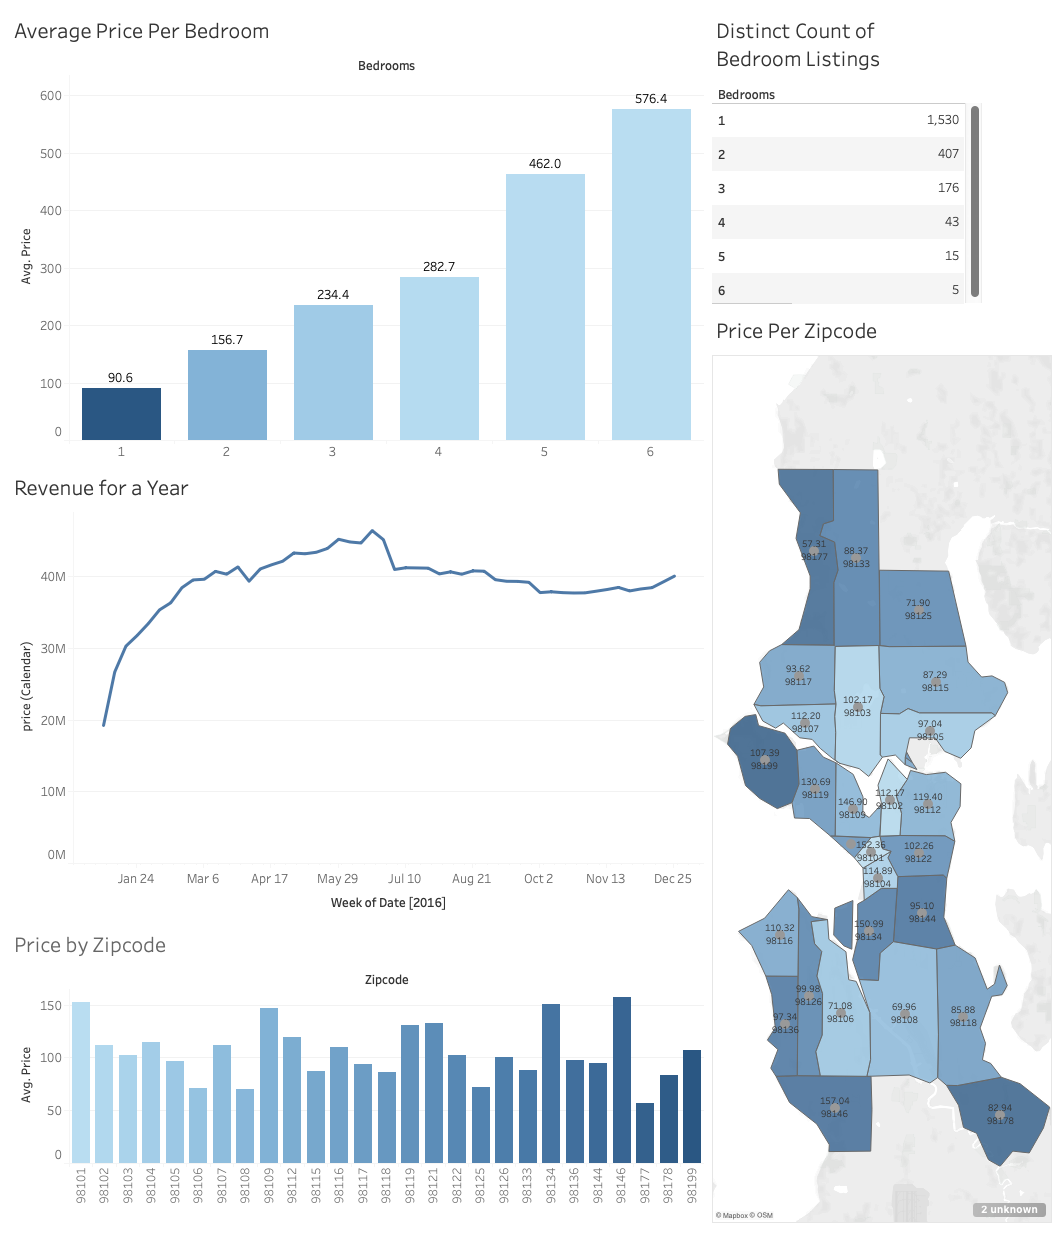

The dashboard page shown, as its layout file describes it:
{"tool":"tableau","page":{"name":"Dashboard 1","canvas":[1000,1000],"units":"permille","ordinal":0},"visuals":[{"type":"worksheet","title":"Sheet 4","mark":"Automatic","rows":["price"],"cols":["bedrooms"],"box":[7.5,6.5,658.6,370.1]},{"type":"worksheet","title":"Sheet 5","mark":"Automatic","rows":["bedrooms"],"box":[666.1,6.5,326.4,242.9]},{"type":"worksheet","title":"Sheet 2","mark":"Automatic","box":[666.1,249.4,326.4,744.1]},{"type":"worksheet","title":"Sheet 3","mark":"Automatic","rows":["price (Calendar)"],"cols":["date"],"box":[7.5,376.6,658.6,370.1]},{"type":"worksheet","title":"Sheet 1","mark":"Automatic","rows":["price"],"cols":["zipcode"],"box":[7.5,746.8,658.6,246.8]}]}

Visuals, with their boxes on the dashboard's canvas, which has no fixed pixel size, in thousandths of its width and height (x1, y1, x2, y2). These are canvas units, not pixel positions in the 1062x1235 screenshot, which may show the page scaled, cropped or inside an application window:
"Sheet 4" worksheet: 8 6 666 377
"Sheet 5" worksheet: 666 6 992 249
"Sheet 2" worksheet: 666 249 992 994
"Sheet 3" worksheet: 8 377 666 747
"Sheet 1" worksheet: 8 747 666 994
